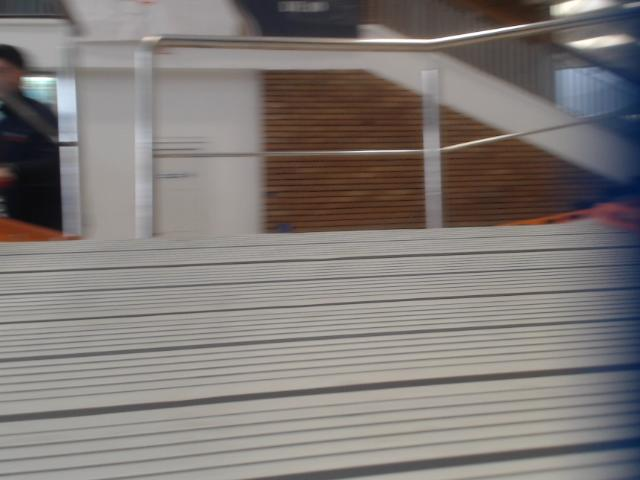rampUp: (0, 223, 639, 479)
ramps-railing: (136, 4, 639, 237), (421, 72, 596, 227), (135, 150, 416, 158)
